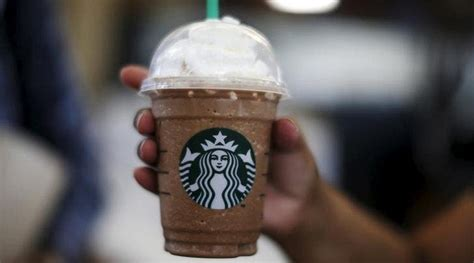starbucks Originale: (169, 120, 265, 220)
